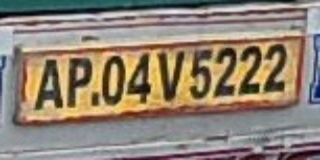0: (100, 53, 127, 107)
2: (264, 43, 291, 95), (239, 45, 263, 97), (215, 47, 238, 100)
4: (127, 53, 153, 105)
5: (189, 48, 214, 101)
A: (32, 56, 64, 110)
P: (66, 55, 93, 109)
V: (156, 50, 186, 103)
